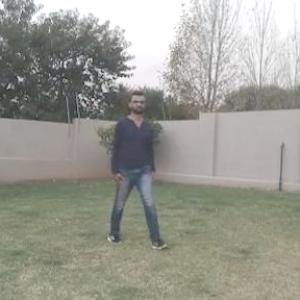follow: (119, 91, 153, 227)
